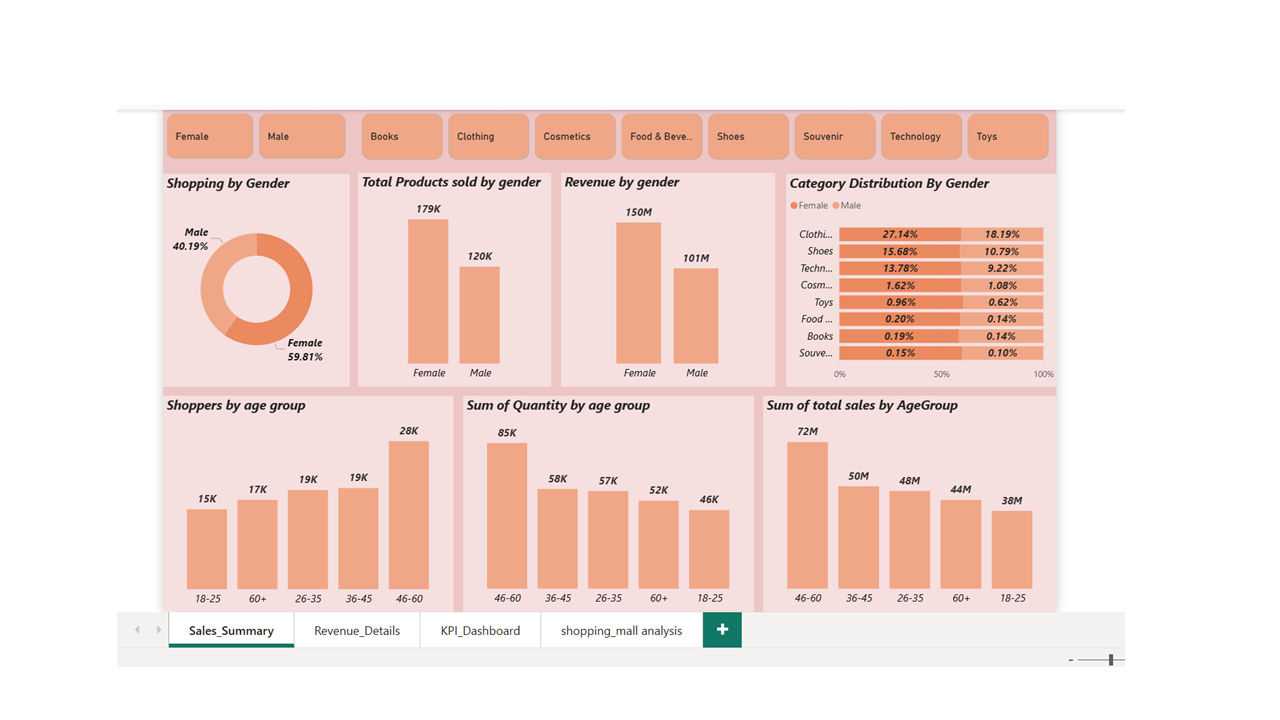

This screenshot's page, from the dashboard's own definition file:
{"tool":"powerbi","page":{"name":"Sales_Summary","canvas":[1280,720],"ordinal":0},"visuals":[{"type":"donutChart","title":"Shopping by Gender","fields":{"Category":["project_customer_segmentation customer.gender"],"Y":["CountNonNull(project_customer_segmentation customer.invoice_no)"]},"box":[0,92.3,267.2,305.4],"z":0},{"type":"clusteredColumnChart","title":"Total Products sold by gender","fields":{"Category":["project_customer_segmentation customer.gender"],"Y":["Sum(project_customer_segmentation customer.quantity)"]},"box":[279.9,90.7,276.8,307],"z":1000},{"type":"clusteredColumnChart","title":"Revenue by gender","fields":{"Category":["project_customer_segmentation customer.gender"],"Y":["Sum(project_customer_segmentation customer.total_sales)"]},"box":[569.4,90.7,307,307],"z":2000},{"type":"hundredPercentStackedBarChart","title":"Category Distribution By  Gender","fields":{"Category":["project_customer_segmentation customer.category"],"Y":["Sum(project_customer_segmentation customer.total_sales)"],"Series":["project_customer_segmentation customer.gender"]},"box":[892.3,92.3,388.1,305.4],"z":3000},{"type":"lineStackedColumnComboChart","title":"Shoppers by age group","fields":{"Category":["project_customer_segmentation customer.AgeGroup"],"Y":["CountNonNull(project_customer_segmentation customer.customer_id)"]},"box":[0,409.7,416.1,310.9],"z":4000},{"type":"lineClusteredColumnComboChart","title":"Sum of Quantity by age group","fields":{"Category":["project_customer_segmentation customer.AgeGroup"],"Y":["Sum(project_customer_segmentation customer.quantity)"]},"box":[429.5,410.4,416.7,310.2],"z":5000},{"type":"lineClusteredColumnComboChart","title":"Sum of total sales by AgeGroup","fields":{"Category":["project_customer_segmentation customer.AgeGroup"],"Y":["Sum(project_customer_segmentation customer.total_sales)"]},"box":[858.9,410.4,421.5,310.2],"z":6000},{"type":"advancedSlicerVisual","fields":{"Values":["project_customer_segmentation customer.gender"]},"box":[308.6,0,208.4,76.3],"z":7000},{"type":"advancedSlicerVisual","fields":{"Values":["project_customer_segmentation customer.category"]},"box":[509,0,769.9,76.3],"z":8000},{"type":"textbox","box":[0,12.7,299,50.9],"z":9000}]}

Visuals, with their boxes on the page's 1280x720 design canvas (x1, y1, x2, y2). These are canvas units, not pixel positions in the 1280x720 screenshot, which may show the page scaled, cropped or inside an application window:
"Shopping by Gender" donutChart: 0:92:267:398
"Total Products sold by gender" clusteredColumnChart: 280:91:557:398
"Revenue by gender" clusteredColumnChart: 569:91:876:398
"Category Distribution By  Gender" hundredPercentStackedBarChart: 892:92:1280:398
"Shoppers by age group" lineStackedColumnComboChart: 0:410:416:721
"Sum of Quantity by age group" lineClusteredColumnComboChart: 430:410:846:721
"Sum of total sales by AgeGroup" lineClusteredColumnComboChart: 859:410:1280:721
advancedSlicerVisual - project_customer_segmentation customer.gender: 309:0:517:76
advancedSlicerVisual - project_customer_segmentation customer.category: 509:0:1279:76
textbox: 0:13:299:64
